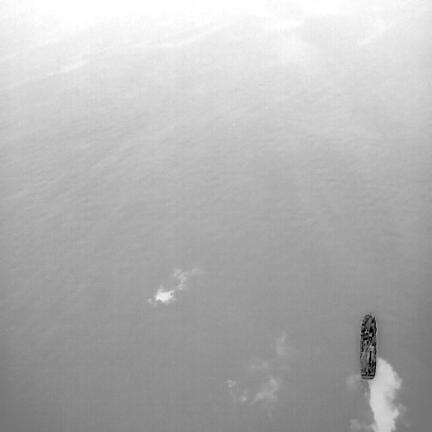flukeprints: (227, 332, 294, 418), (148, 268, 204, 305)
